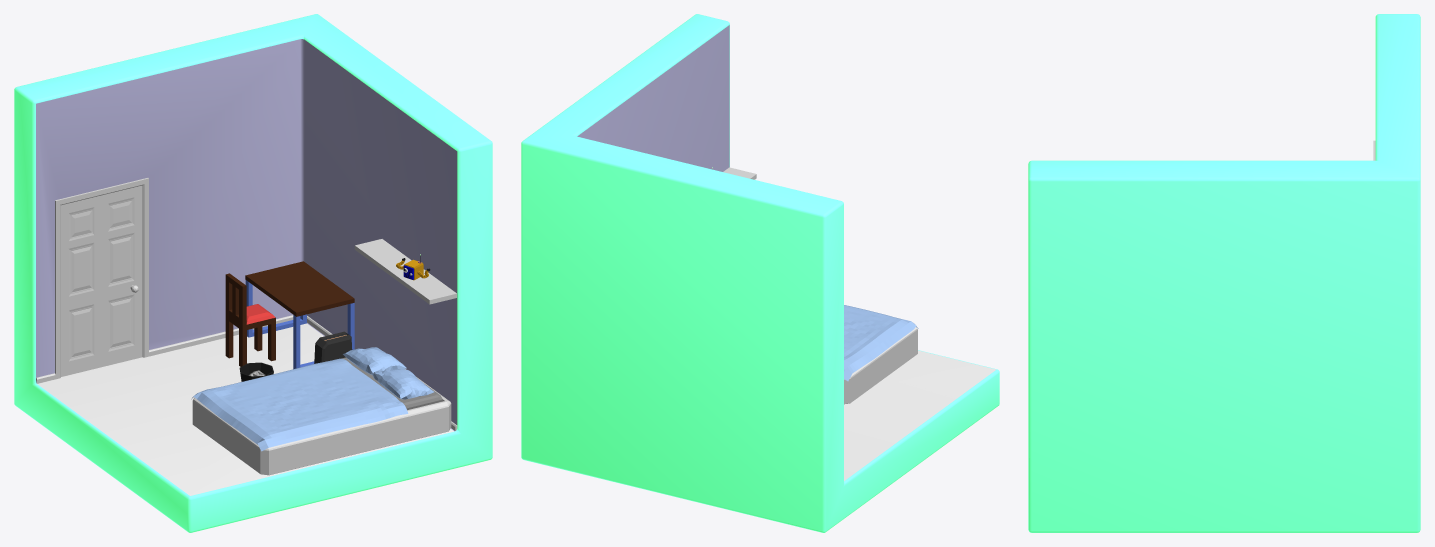
File: CozzyRoom_2.glb
The picture shows the model from 3 angles, left to right: view 1: azimuth 30°, elevation 25°; view 2: azimuth 150°, elevation 25°; view 3: azimuth 270°, elevation 25°; orthographic projection. The views are drawn at different scales.
Parts seen in each view (by area): view 1: Cube.026, Cube.004, Plane.002, Cube.002, Cube.016, Cube.023, Cube.008, Cube.007, Plane.004, Cube.005, Plane.003, Cube.013 (+2 smaller); view 2: Cube.026, Plane.002, Cube.002; view 3: Cube.026.
Boxes of the visible parts, x1,y1,x2,y2 form: Cube.026: (14, 14, 492, 532); Cube.004: (61, 185, 142, 376); Plane.002: (191, 358, 408, 451); Cube.002: (192, 357, 451, 475); Cube.016: (245, 261, 354, 369); Cube.023: (225, 273, 275, 366); Cube.008: (354, 239, 456, 304); Cube.007: (142, 178, 148, 357); Plane.004: (372, 369, 433, 399); Cube.005: (55, 199, 60, 379); Plane.003: (343, 347, 406, 374); Cube.013: (314, 331, 352, 363); Cube.026: (521, 14, 999, 532); Plane.002: (844, 305, 918, 381); Cube.002: (844, 327, 917, 404); Cube.026: (1028, 14, 1420, 532).
Bounding box in the file's own units: 2.26 × 2.26 × 2.26.
